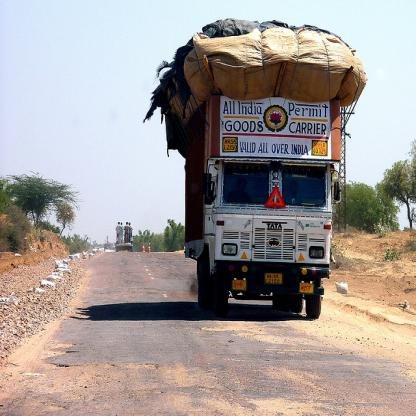overloaded-truck: (146, 11, 379, 118)
